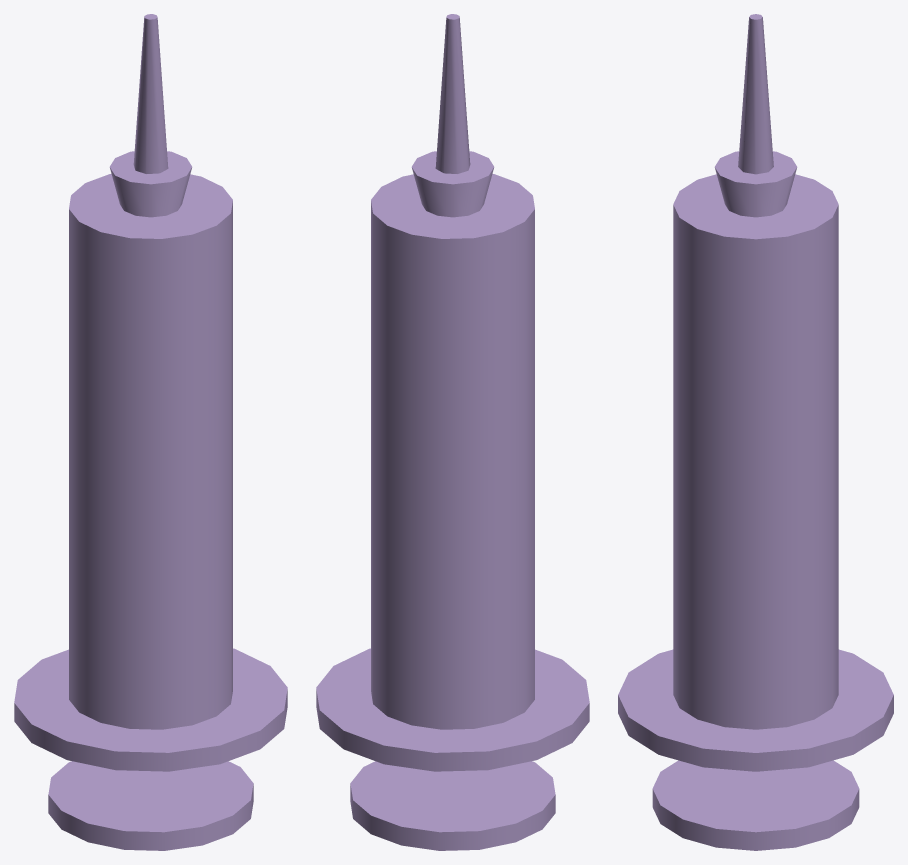
The model's file is syringe.glb.
The picture shows the model from 3 angles, left to right: view 1: azimuth 30°, elevation 25°; view 2: azimuth 150°, elevation 25°; view 3: azimuth 270°, elevation 25°; orthographic projection.
Size of the model in its own units: 0.4 by 1.27 by 0.4.
